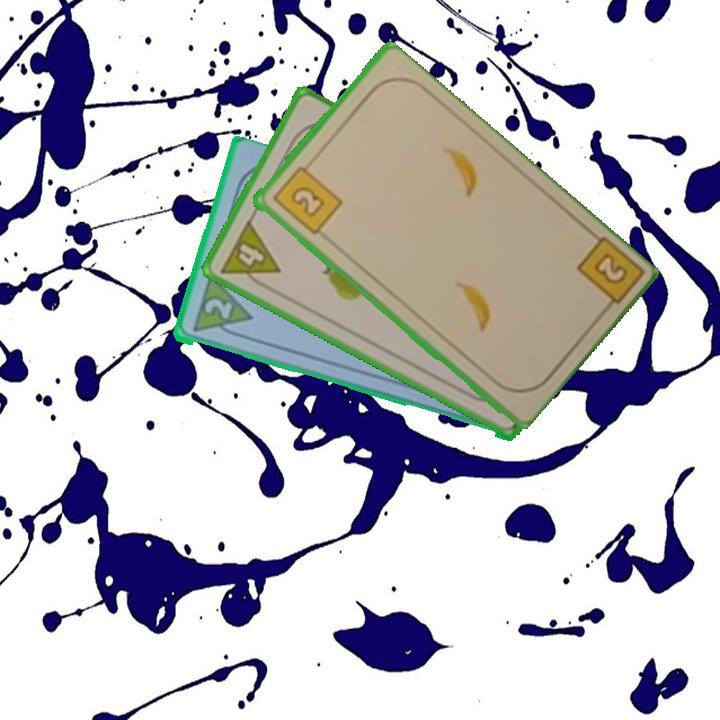2b: (268, 157, 345, 238), (572, 233, 643, 318)
2p: (200, 295, 235, 323)
4p: (216, 216, 283, 294)
